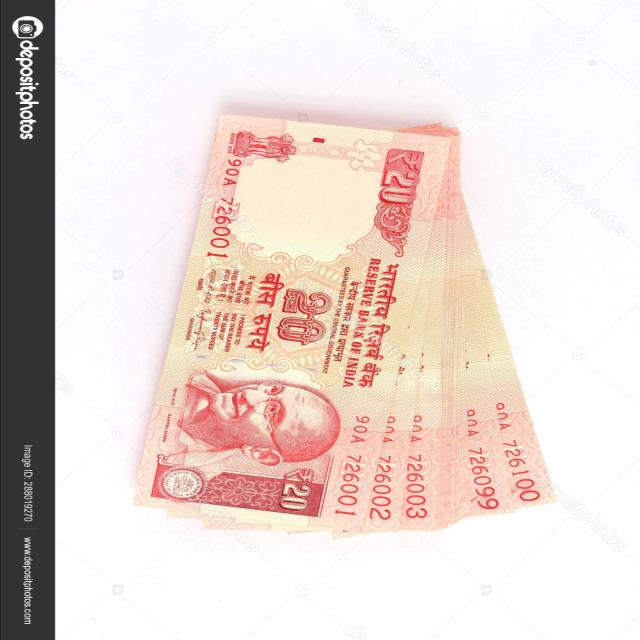20IndianRupees: (126, 114, 453, 539)
